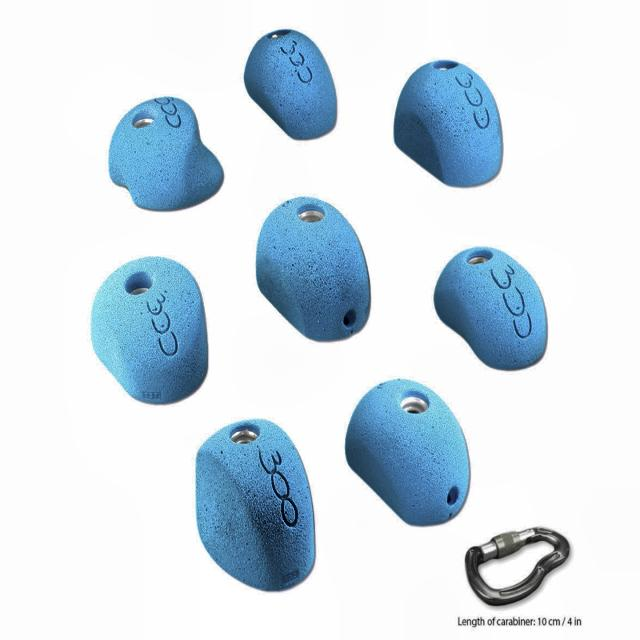Hold: (188, 402, 325, 606), (336, 368, 482, 525), (83, 262, 221, 416), (247, 195, 381, 348), (432, 218, 564, 368), (392, 56, 518, 193), (98, 90, 225, 212), (240, 26, 341, 136)
